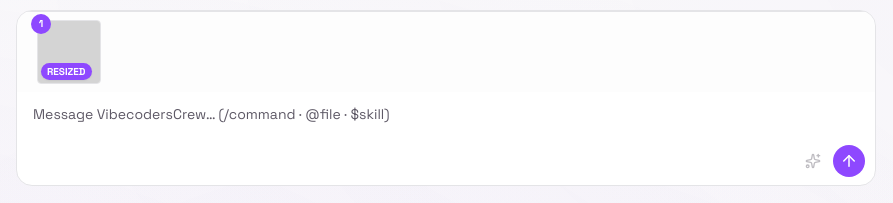
Test: ChatInput attachment resize badge › opens a tooltip with the dimensions on hover and closes on leave
Hover over the text "RESIZED": (66, 71) left=41, top=62, right=92, bottom=80
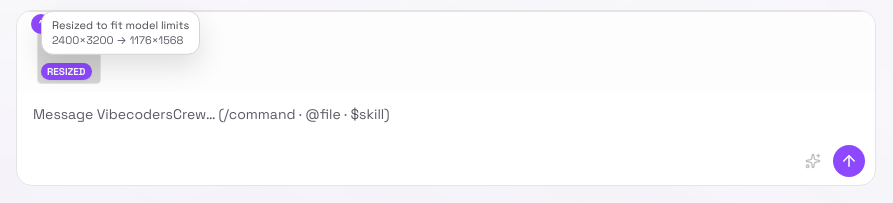
Now the tooltip shows "Resized to fit model limits", box left=52, top=17, right=189, bottom=31
Now the tooltip shows "2400×3200 → 1176×1568", box left=41, top=10, right=200, bottom=55
Move the pointer off the text "RESIZED", box left=41, top=62, right=92, bottom=80
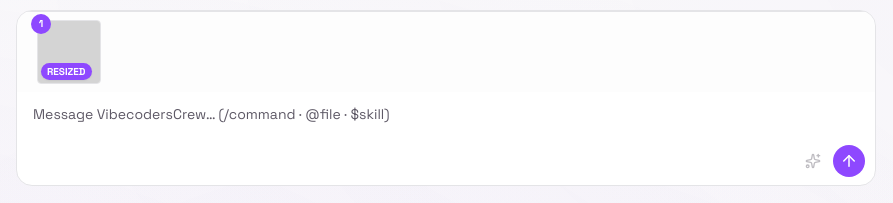
Now the tooltip "Resized to fit model limits 2400×3200 → 1176×1568" is gone
